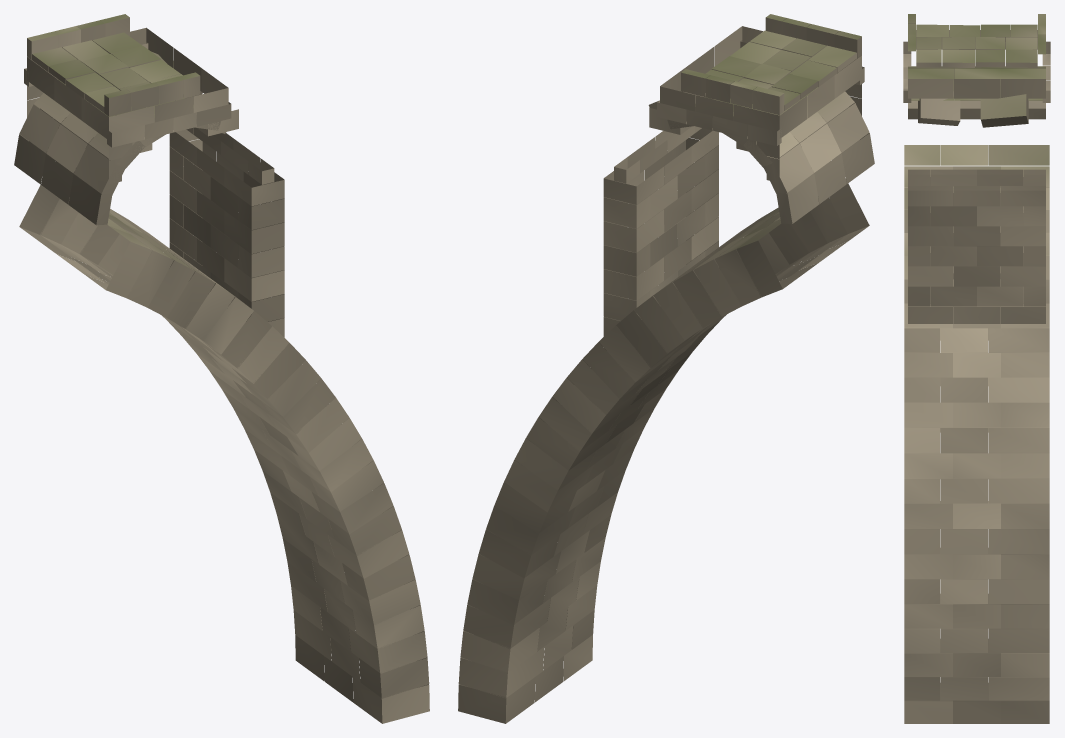
File: bridge_haunch_broken_mid.glb
3 views of the same model, side by side, from view 1: azimuth 30°, elevation 25°; view 2: azimuth 150°, elevation 25°; view 3: azimuth 270°, elevation 25° (orthographic). The views are drawn at different scales.
Visible parts, largest first — view 1: bridge_haunch_broken_mid; view 2: bridge_haunch_broken_mid; view 3: bridge_haunch_broken_mid.
Part boxes in pixels (left/top/right/bottom): bridge_haunch_broken_mid: left=14, top=14, right=429, bottom=723; bridge_haunch_broken_mid: left=458, top=14, right=874, bottom=723; bridge_haunch_broken_mid: left=903, top=14, right=1050, bottom=723.
Size of the model in its own units: 34.84 by 69.36 by 15.97.
